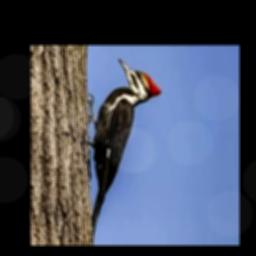Woodpecker: (86, 57, 161, 239)
